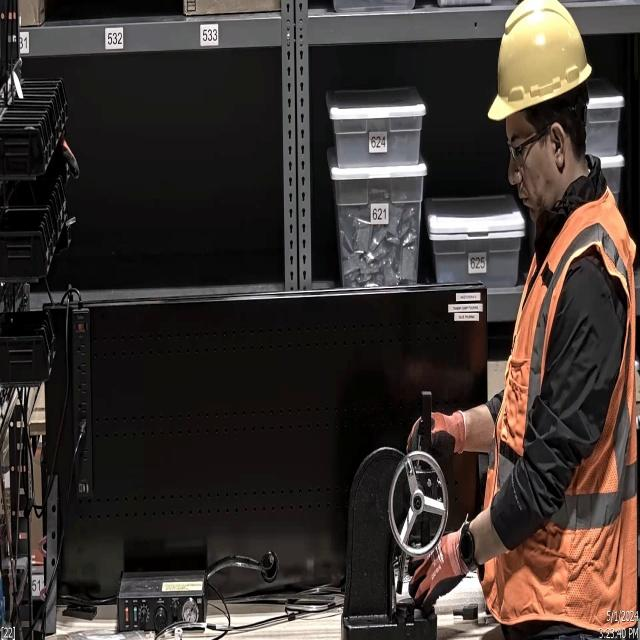construction-gloves: (408, 522, 468, 622)
